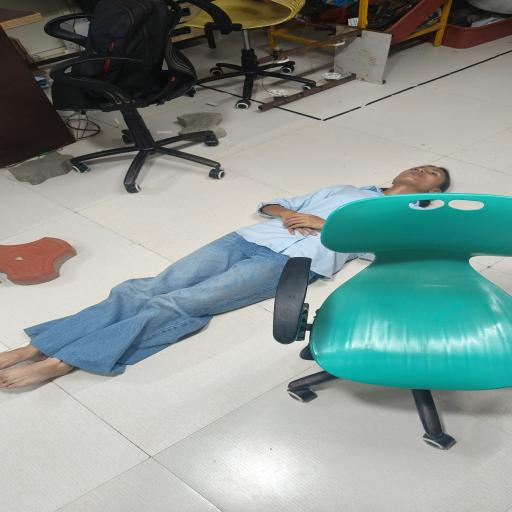survivor: (0, 165, 451, 389)
